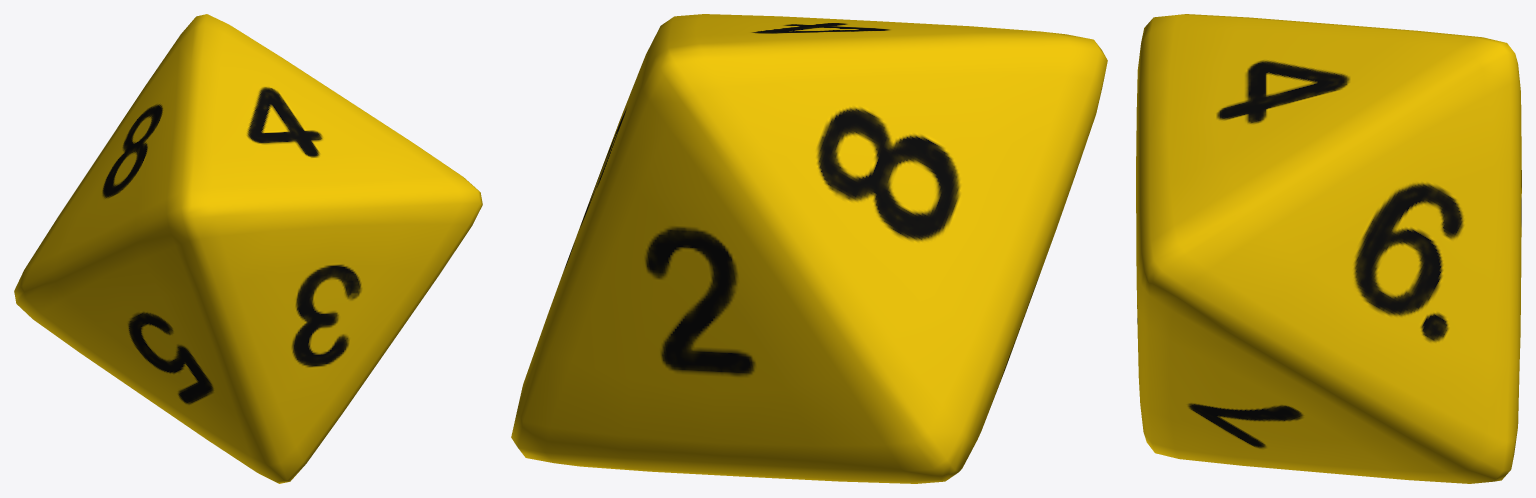
3 views of the same model, side by side, from view 1: azimuth 30°, elevation 25°; view 2: azimuth 150°, elevation 25°; view 3: azimuth 270°, elevation 25° (orthographic). The views are drawn at different scales.
Parts seen in each view (by area): view 1: Eight_sided_cube_pivot.003; view 2: Eight_sided_cube_pivot.003; view 3: Eight_sided_cube_pivot.003.
Part boxes in pixels (<box>): Eight_sided_cube_pivot.003: <box>14,14,482,483</box>; Eight_sided_cube_pivot.003: <box>511,14,1107,483</box>; Eight_sided_cube_pivot.003: <box>1136,14,1521,483</box>.
Bounding box in the file's own units: 1.63 × 1.67 × 1.31.
Materials: 1 (1 with a texture image).
